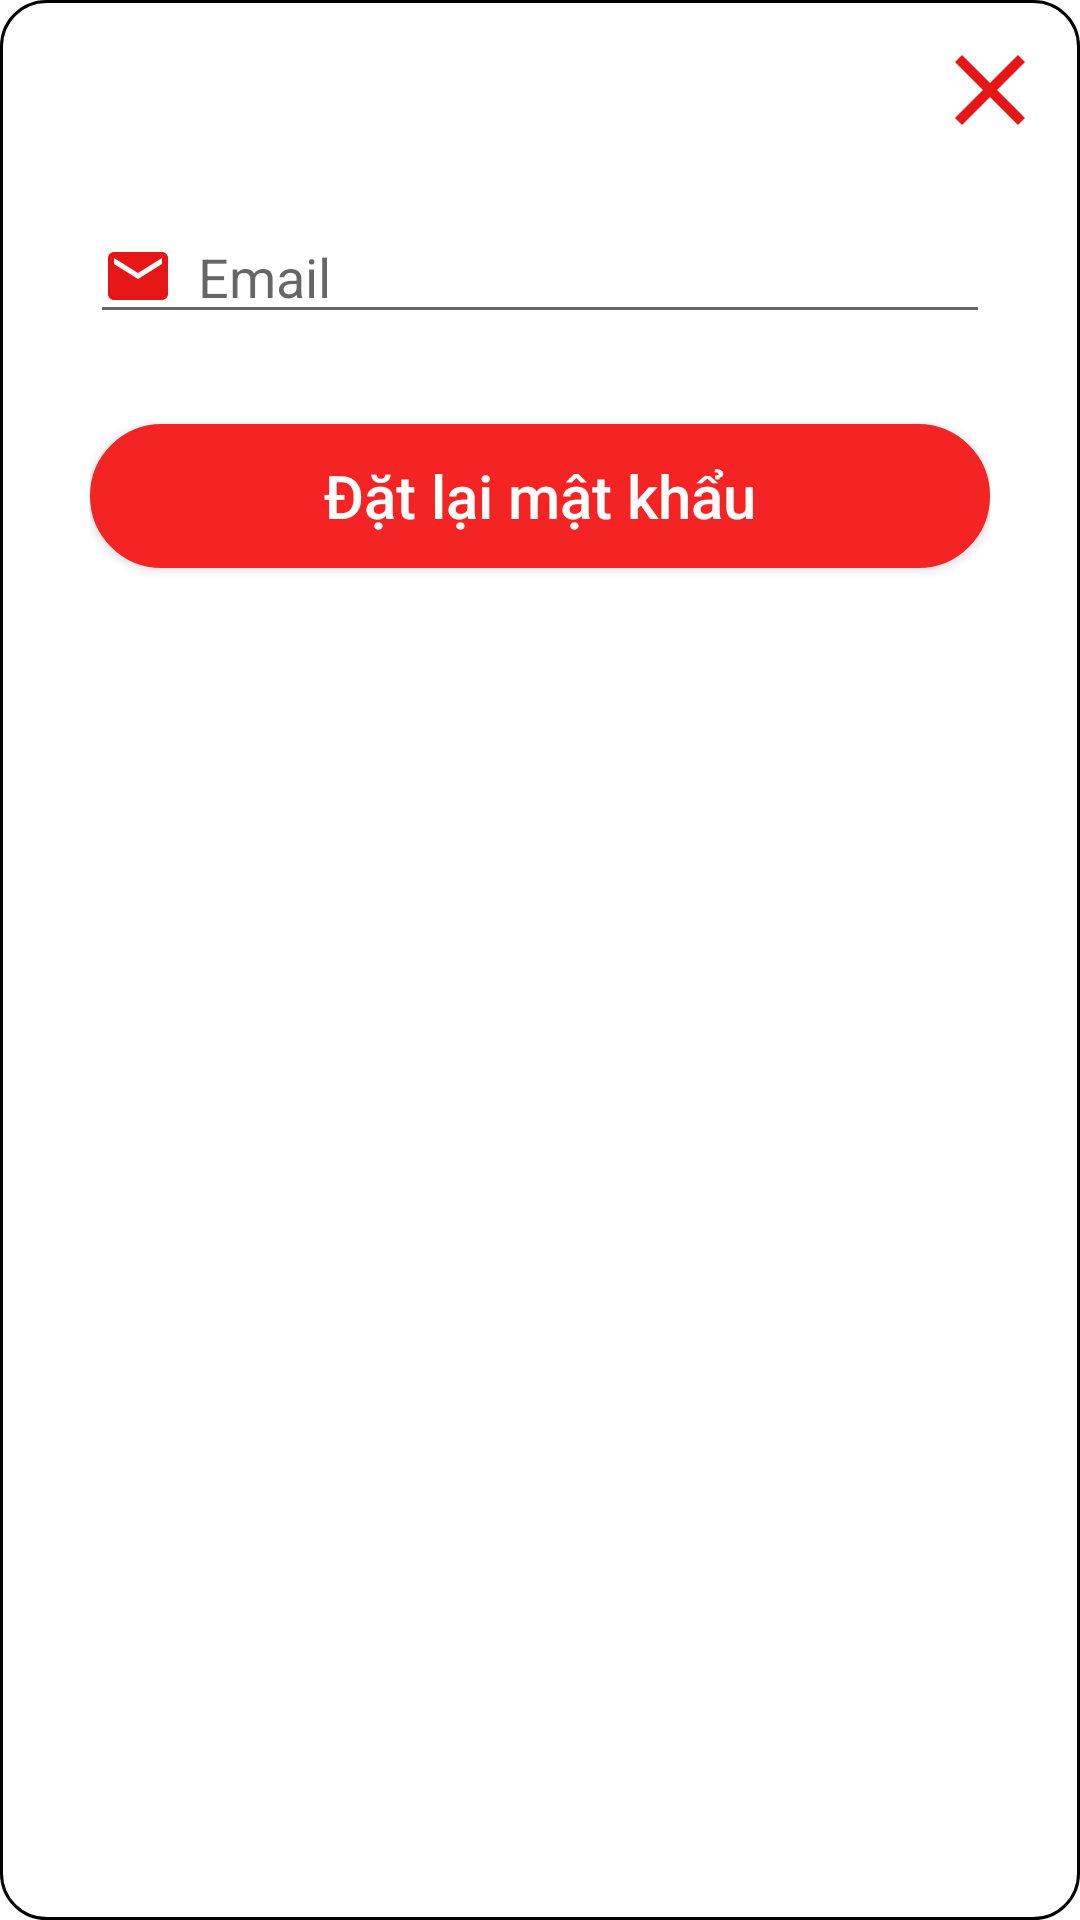

Icon bounding boxes for this 1080px×1920px phone screenshot, format BBox(x1, y1, x2, y2):
close: BBox(955, 55, 1025, 125)
